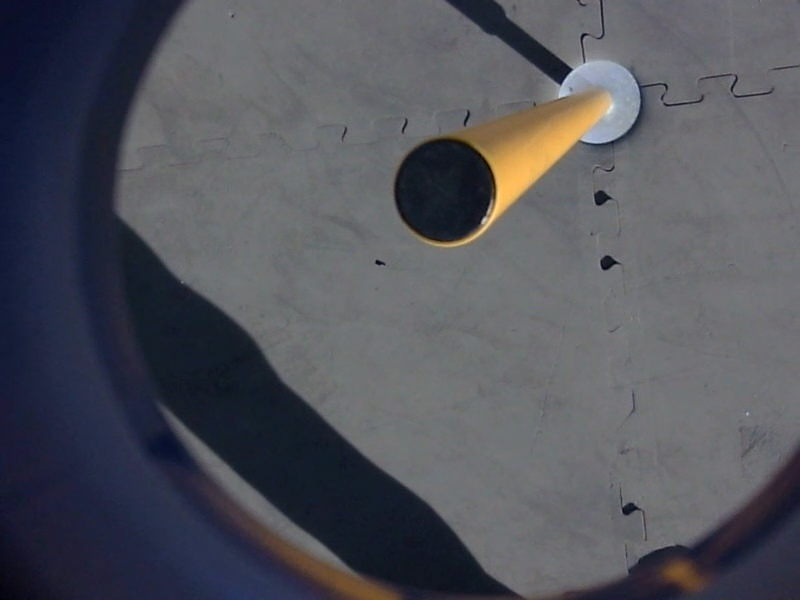tip: (389, 132, 505, 253)
